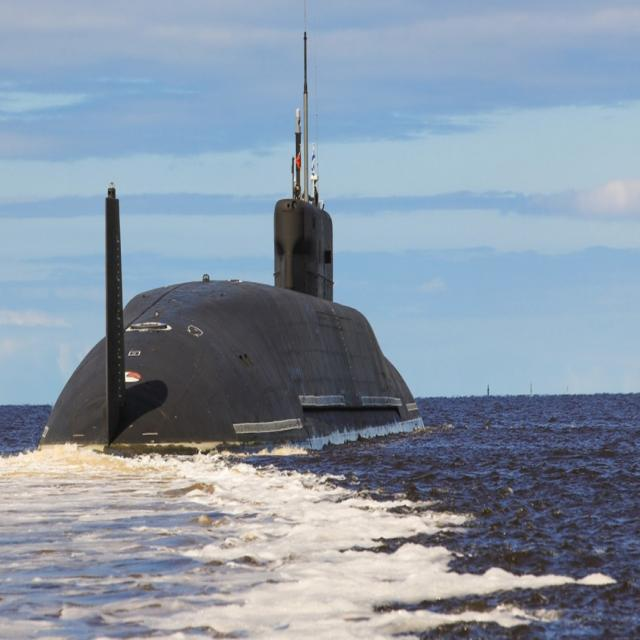submarine: (30, 1, 430, 466)
